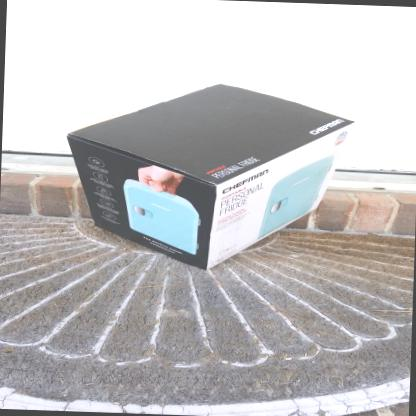box: (63, 82, 357, 272)
